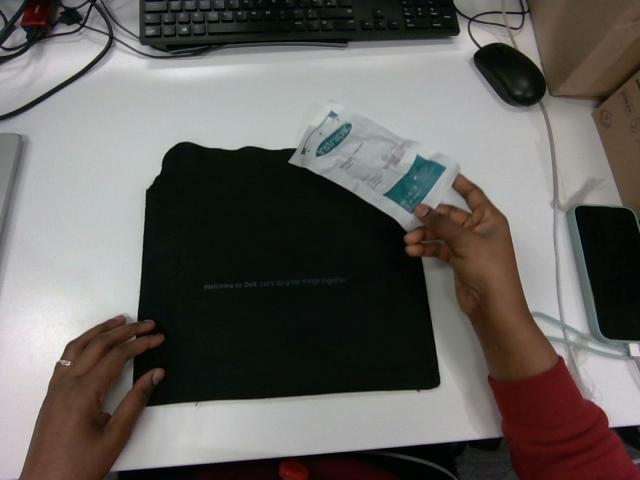gallipot: (290, 103, 458, 230)
